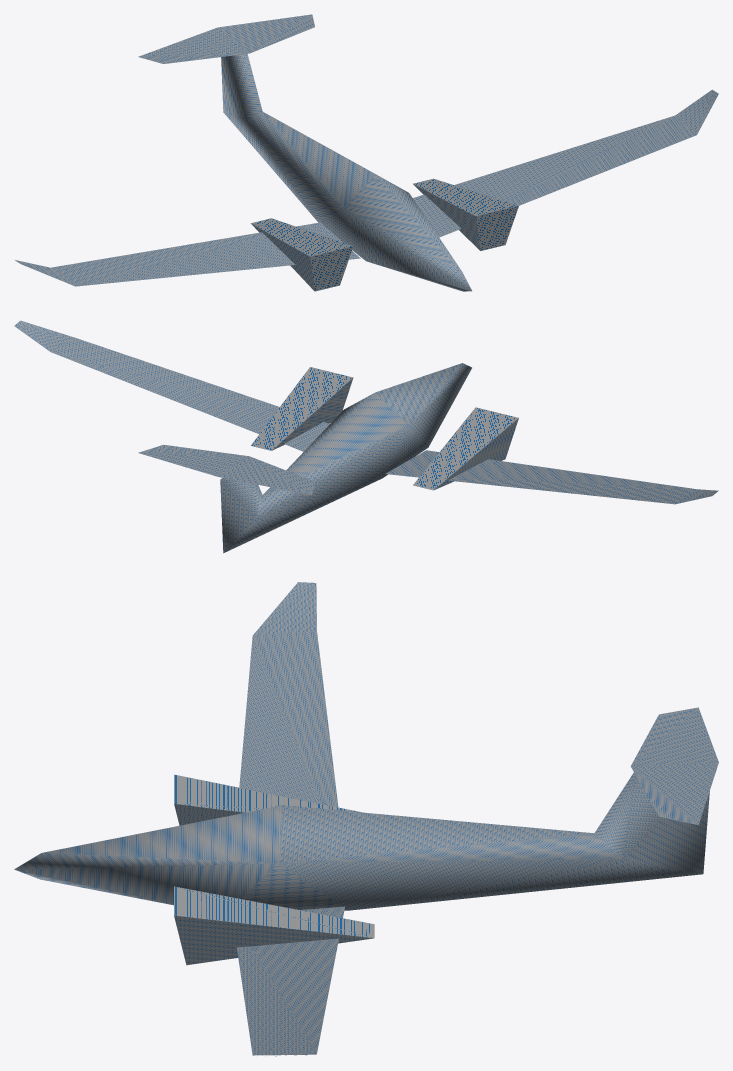
3 views of the same model, one above another, from view 1: azimuth 30°, elevation 25°; view 2: azimuth 150°, elevation 25°; view 3: azimuth 270°, elevation 25° (orthographic). The views are drawn at different scales.
Visible parts, largest first — view 1: FUSELAGE; view 2: FUSELAGE; view 3: FUSELAGE.
Boxes of the visible parts, x1=… form: FUSELAGE: x1=15, y1=14, x2=718, y2=291; FUSELAGE: x1=14, y1=320, x2=718, y2=553; FUSELAGE: x1=14, y1=582, x2=718, y2=1056.
Bounding box in the file's own units: 14.52 × 1.99 × 9.17.
